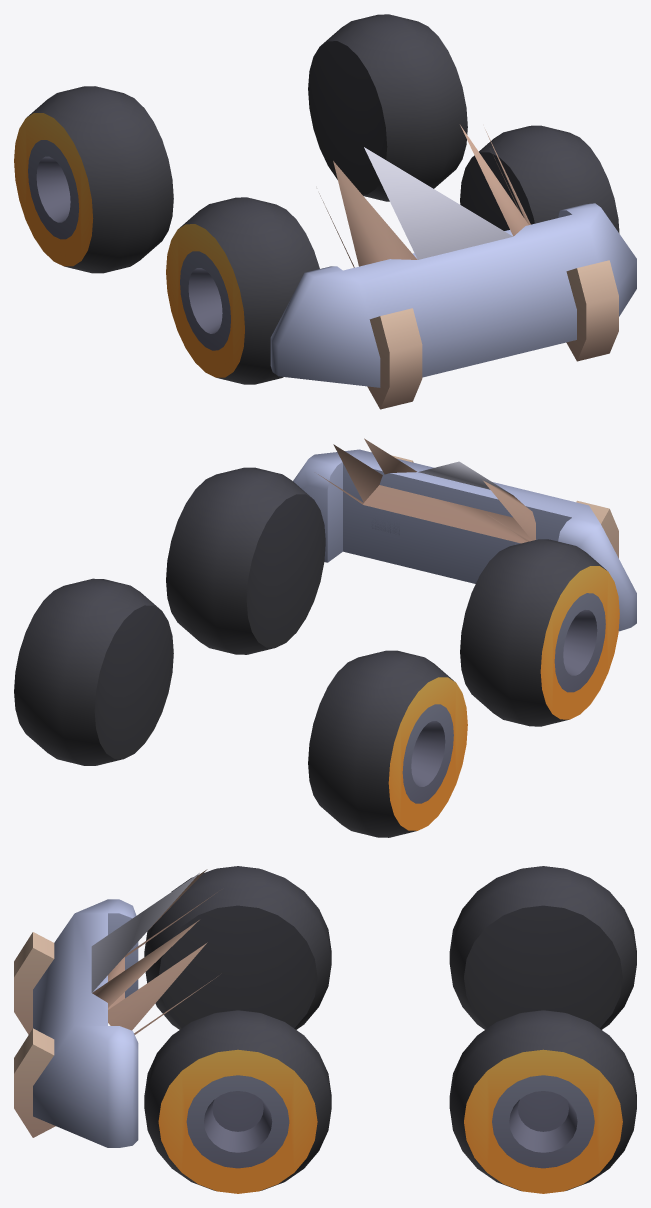
Rendered from kart-cockpit.obj.
The picture shows the model from 3 angles, top to bottom: view 1: azimuth 30°, elevation 25°; view 2: azimuth 150°, elevation 25°; view 3: azimuth 270°, elevation 25°; orthographic projection.
Visible parts, largest first — view 1: kart-oozi, wheel-back-right, wheel-back-left, wheel-front-right, wheel-front-left; view 2: kart-oozi, wheel-back-right, wheel-front-left, wheel-front-right, wheel-back-left; view 3: kart-oozi, wheel-back-left, wheel-front-left, wheel-back-right, wheel-front-right.
Part boxes in pixels (x1,y1,x2,y2): kart-oozi: (270, 125, 636, 409); wheel-back-right: (14, 86, 173, 273); wheel-back-left: (308, 14, 467, 201); wheel-front-right: (166, 197, 319, 384); wheel-front-left: (460, 125, 619, 233); kart-oozi: (293, 438, 636, 631); wheel-back-right: (308, 650, 467, 837); wheel-front-left: (166, 467, 325, 654); wheel-front-right: (460, 539, 619, 726); wheel-back-left: (14, 578, 173, 765); kart-oozi: (14, 869, 217, 1147); wheel-back-left: (449, 1010, 636, 1193); wheel-front-left: (144, 1010, 331, 1193); wheel-back-right: (449, 866, 636, 1029); wheel-front-right: (144, 866, 331, 1029).
Size of the model in its own units: 0.9743 by 0.5418 by 1.4.
1 material, 1 textured.
